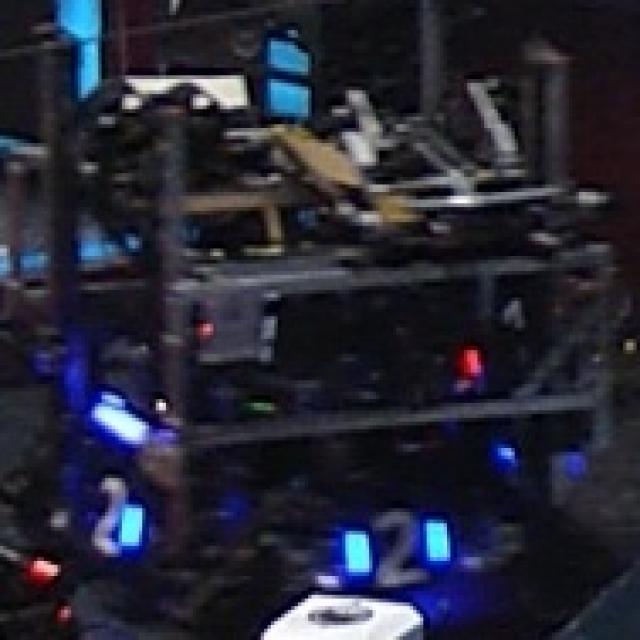B2: (330, 506, 456, 590), (72, 474, 150, 568)
